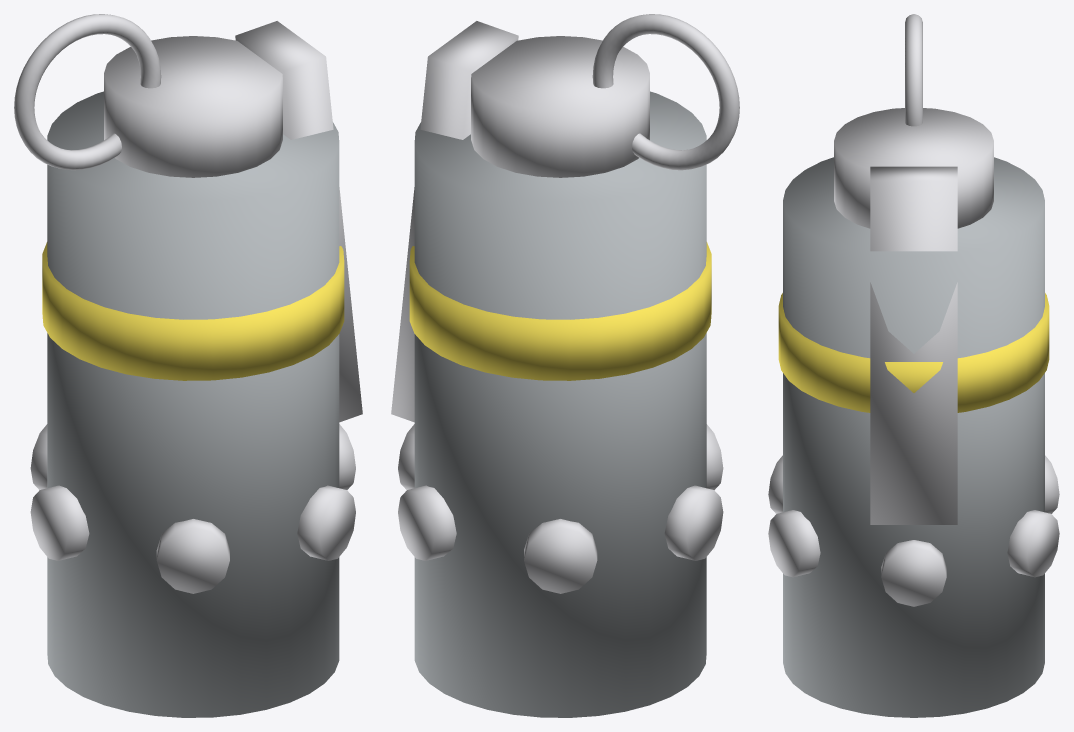
The model's file is ITEM_Flashbang.fbx.
The picture shows the model from 3 angles, left to right: view 1: azimuth 30°, elevation 25°; view 2: azimuth 150°, elevation 25°; view 3: azimuth 270°, elevation 25°; orthographic projection. The views are drawn at different scales.
Visible parts, largest first — view 1: ITEM_Flashbang; view 2: ITEM_Flashbang; view 3: ITEM_Flashbang.
Boxes of the visible parts, <box> form: ITEM_Flashbang: <box>14,14,362,717</box>; ITEM_Flashbang: <box>391,14,739,717</box>; ITEM_Flashbang: <box>768,14,1059,717</box>.
Size of the model in its own units: 9.17 by 18.05 by 8.
